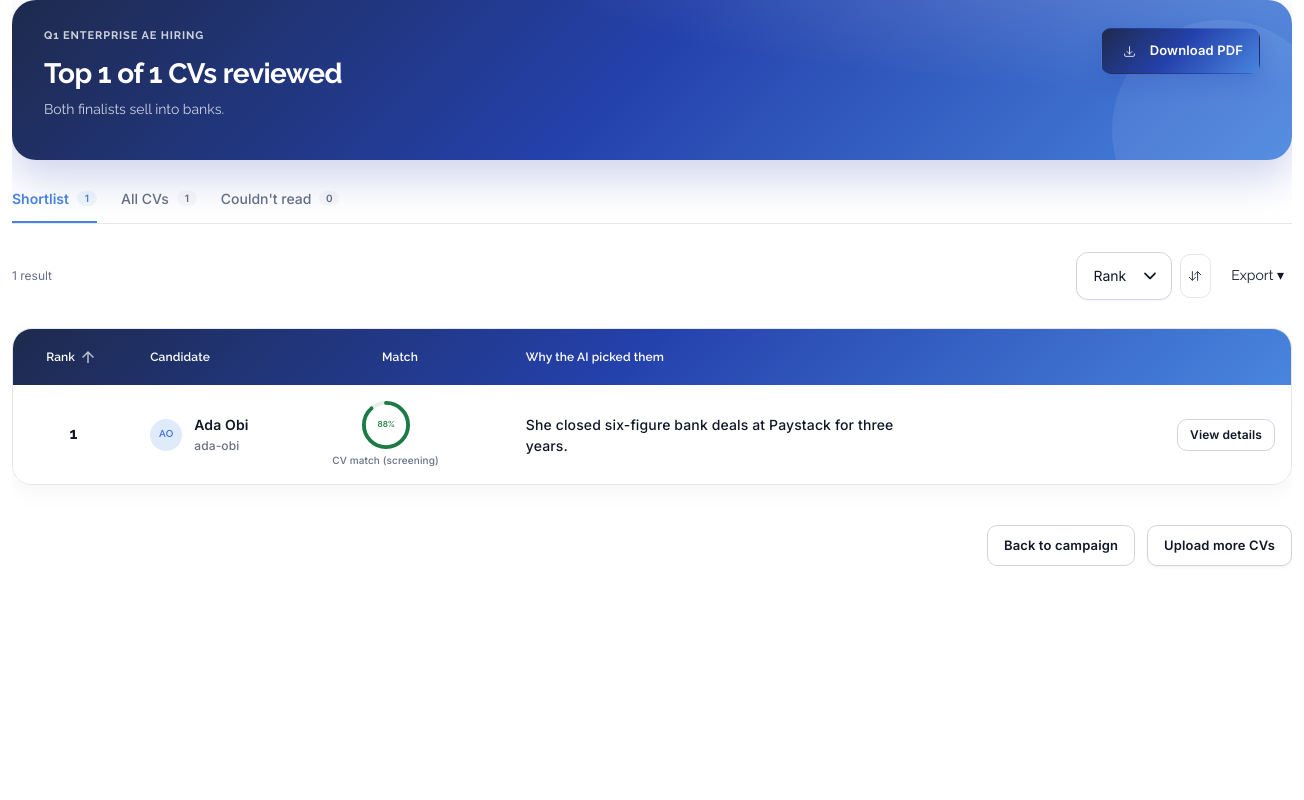
it: RunResults unreadable CVs › says so when every CV was readable
Click the tab "Couldn't read 0" at (280, 199), box top-left (221, 176), bottom-right (339, 222)
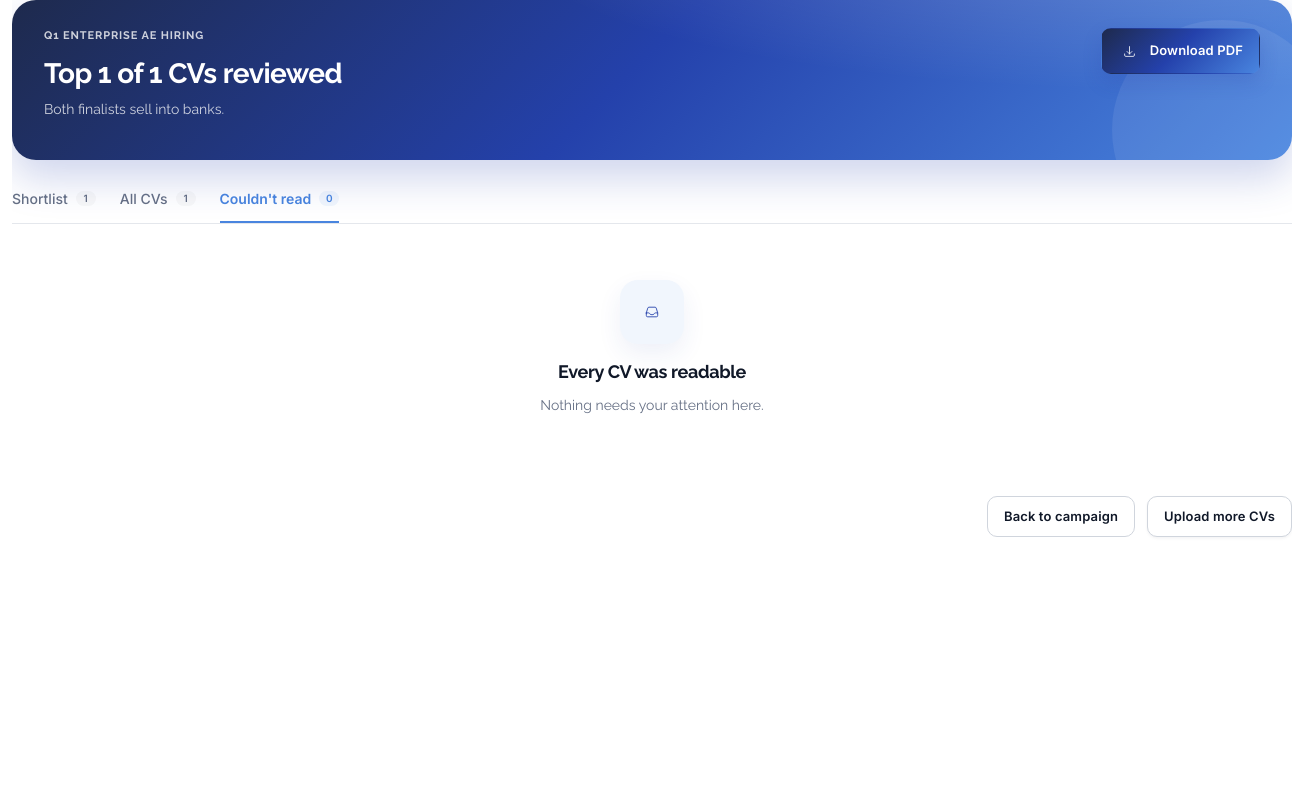
Now the heading "Every CV was readable" is shown, box top-left (558, 358), bottom-right (746, 384)
